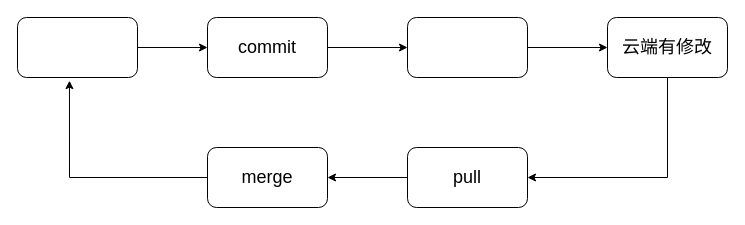
Image size: 745x225. Some labels were removed from this diagram. The shapes that lost their labels are listed below. From the top down, each one's box as (x1, y1, x2, y2) in pixels, then its label:
(16, 16, 138, 78): 本地有修改
(406, 16, 528, 78): push
